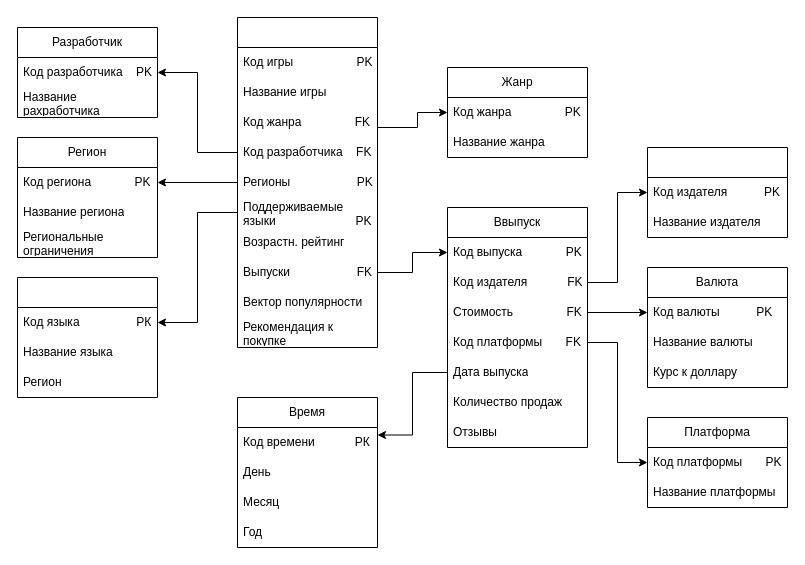
This 805x565 diagram has some shape labels left out. The shapes that lost their labels are listed below. From the top down, each one's box as (x1, y1, x2, y2) in pixels, then its label:
(236, 16, 378, 348): Видеоигра
(646, 146, 788, 238): Издатель
(16, 276, 158, 398): Языки
